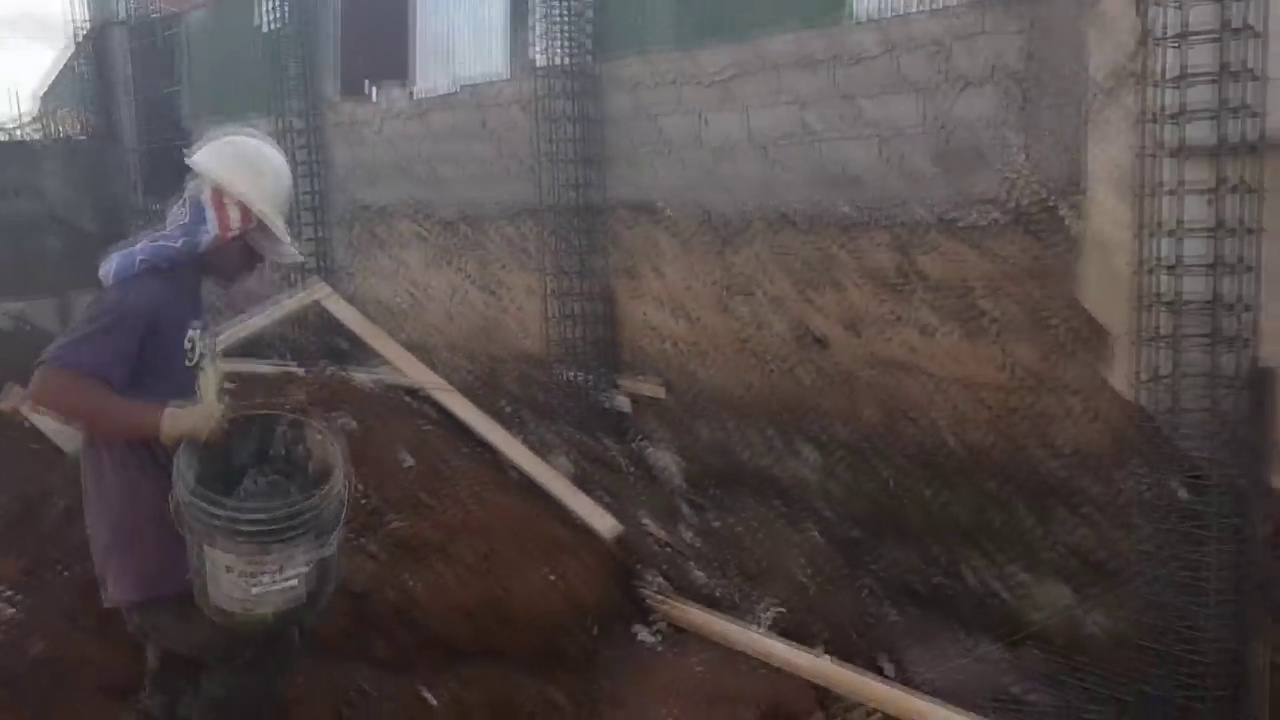helmet: (174, 131, 290, 232)
helmet-on: (152, 135, 292, 292)
person: (45, 137, 293, 668)
